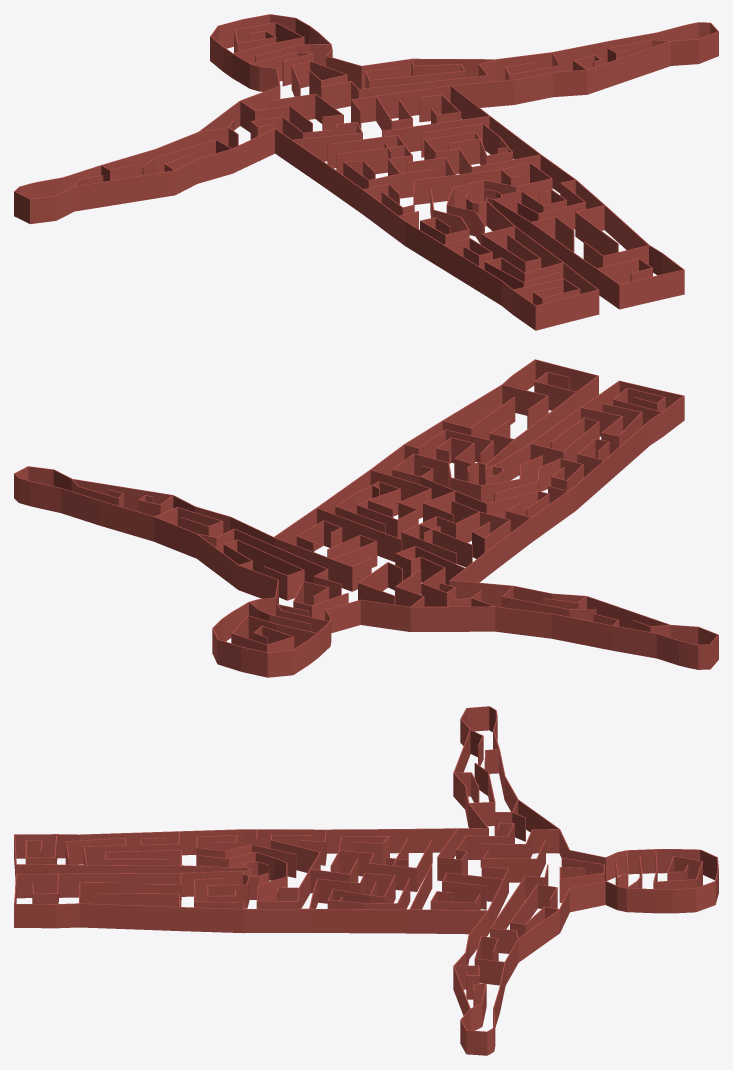
Rendered from mazeman mesh collider optimized.fbx.
3 views of the same model, one above another, from view 1: azimuth 30°, elevation 25°; view 2: azimuth 150°, elevation 25°; view 3: azimuth 270°, elevation 25° (orthographic). The views are drawn at different scales.
Visible parts, largest first — view 1: Cube.001; view 2: Cube.001; view 3: Cube.001.
Part boxes in pixels (left/top/right/bottom): Cube.001: left=14, top=14, right=718, bottom=330; Cube.001: left=14, top=359, right=718, bottom=677; Cube.001: left=14, top=706, right=718, bottom=1055.
Size of the model in its own units: 2249 by 76.35 by 2056.
Materials: 1 (1 with a texture image).
